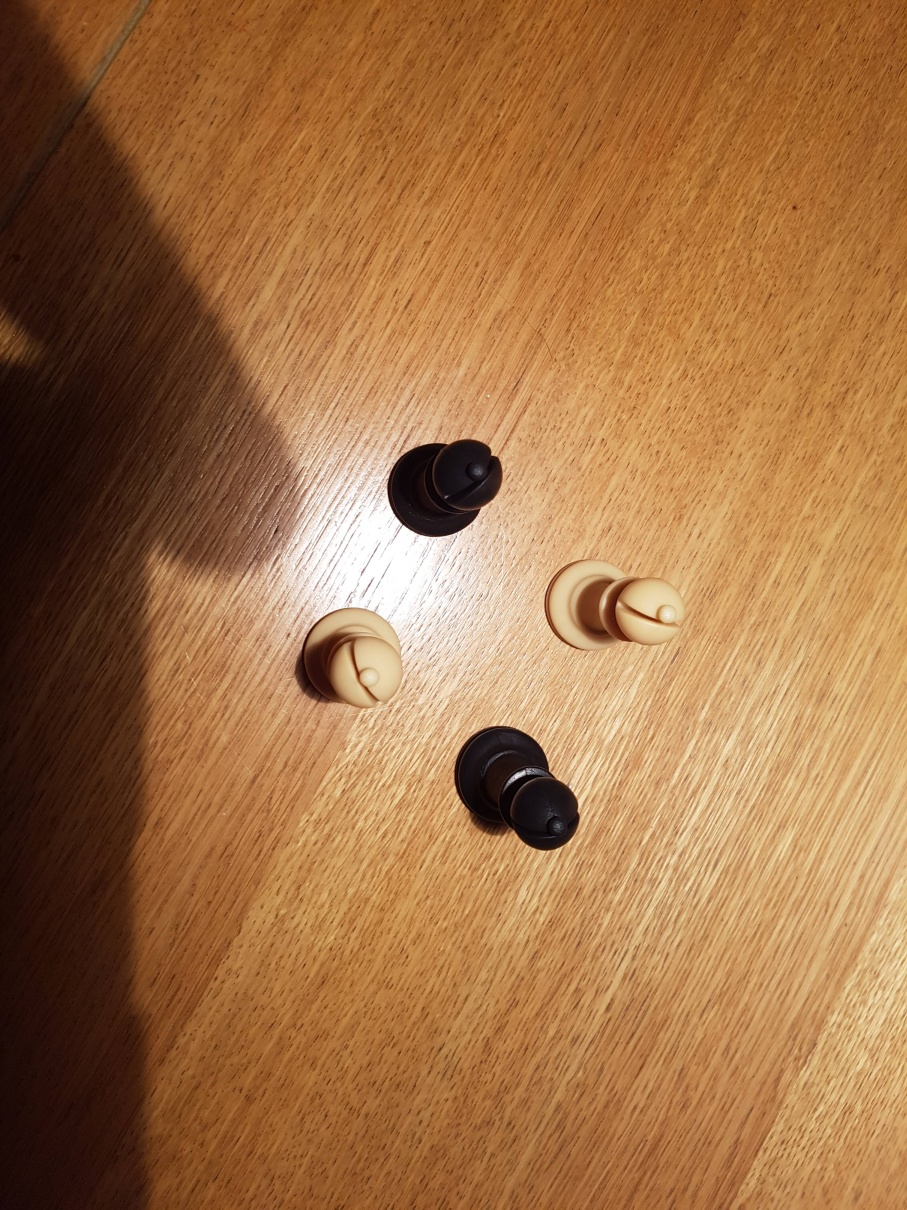chess_bishop: (451, 722, 582, 849), (545, 559, 686, 649), (388, 439, 508, 533), (298, 607, 403, 713)
